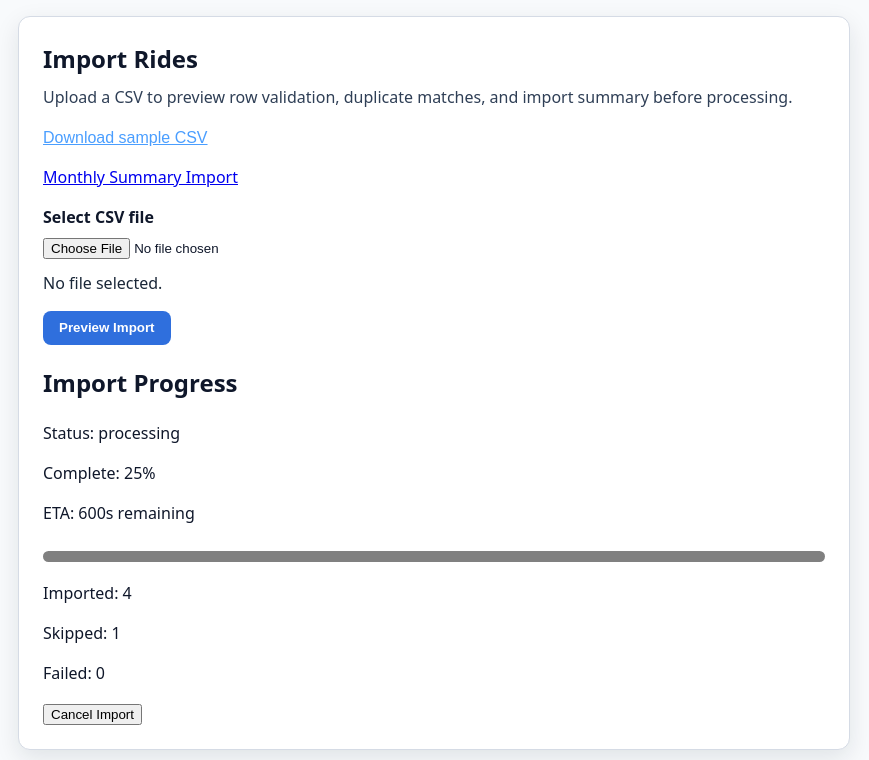
ImportRidesPage › cancels an in-progress import from the progress panel
Expected: the text "Status: processing" is shown, [43,422,180,444]
Step 1. Click the button "Cancel Import" → (92, 714), box [43,704,142,725]
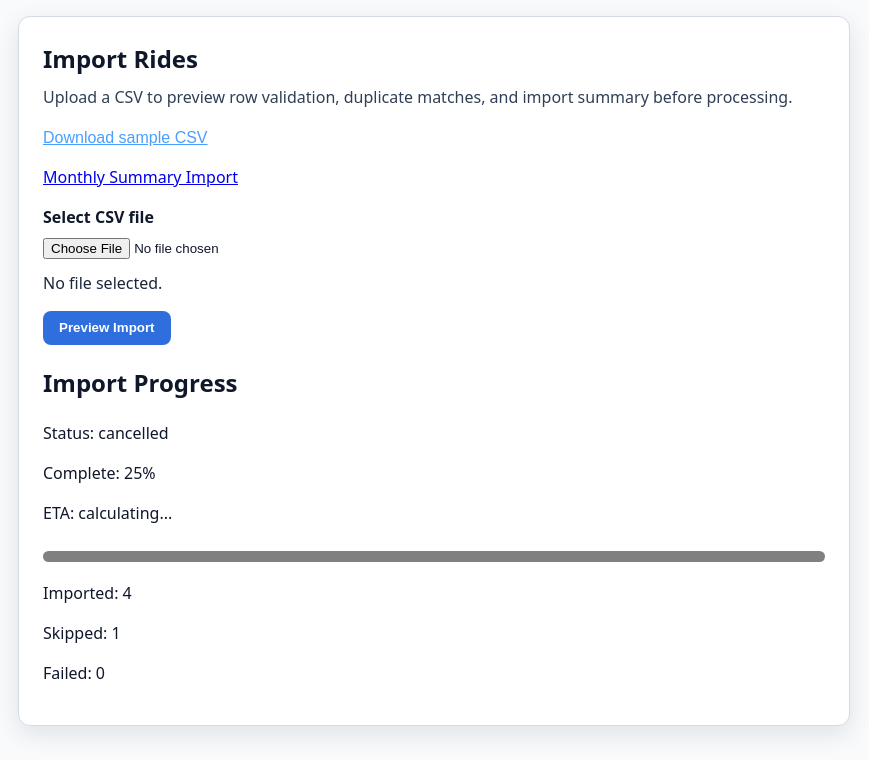
Expected: the text "Imported: 4" is shown, [43,582,132,604]
Expected: the text "Status: cancelled" is shown, [43,422,169,444]
